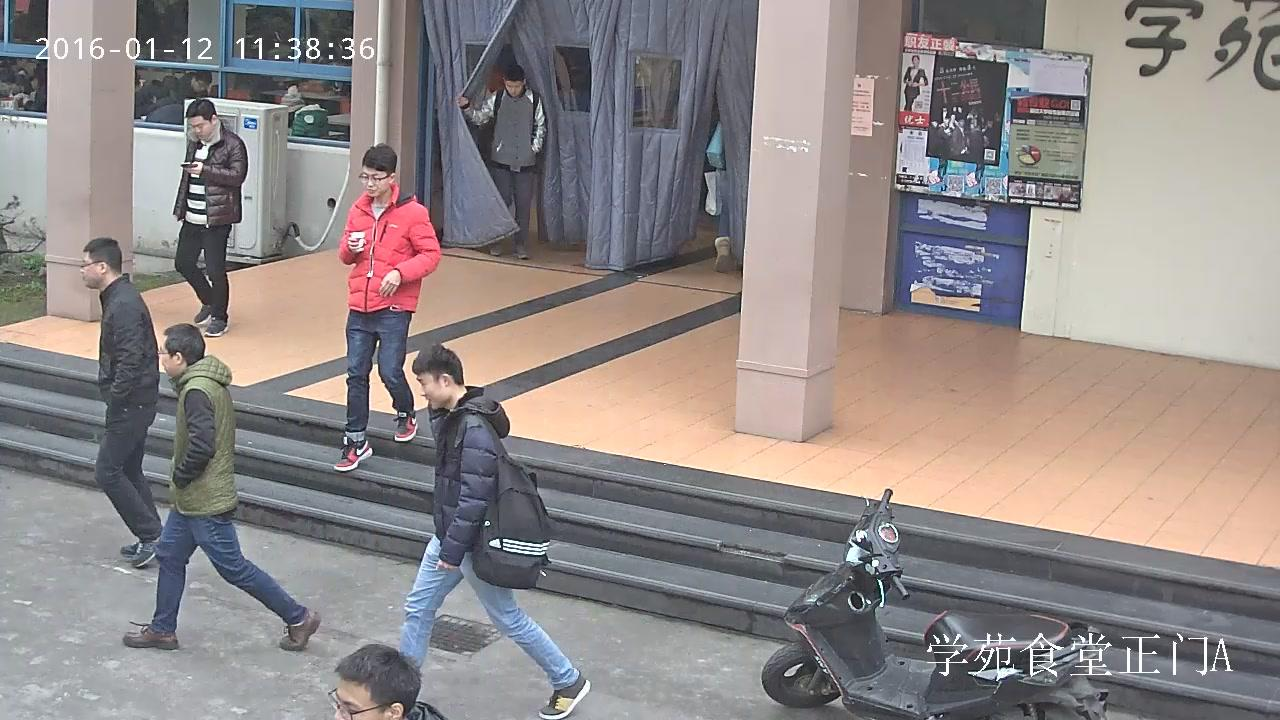person: (390, 343, 591, 720), (123, 322, 320, 650), (332, 143, 441, 473), (78, 236, 172, 568), (169, 98, 248, 336), (454, 63, 546, 260), (703, 116, 733, 272), (281, 85, 329, 138), (902, 54, 928, 111), (173, 70, 211, 100)
